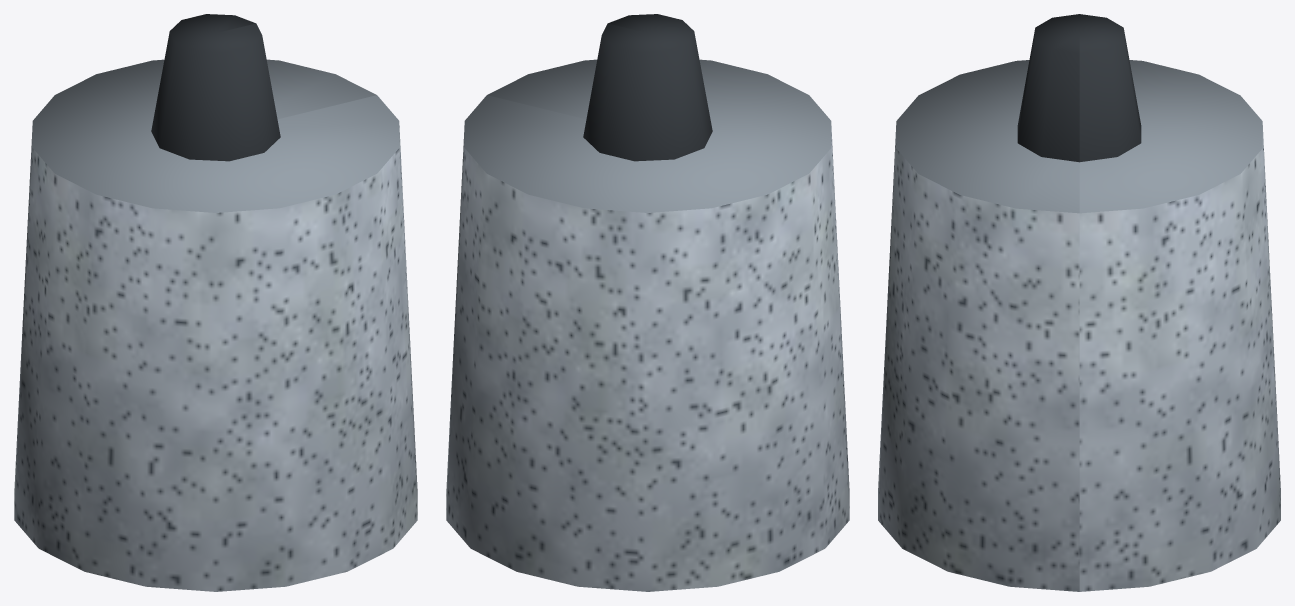
Rendered from prop_airstone.glb.
3 views of the same model, side by side, from view 1: azimuth 30°, elevation 25°; view 2: azimuth 150°, elevation 25°; view 3: azimuth 270°, elevation 25° (orthographic).
Parts seen in each view (by area): view 1: stone, tip; view 2: stone, tip; view 3: stone, tip.
Part boxes in pixels (x1,y1,x2,y2): stone: [14, 59, 417, 591]; tip: [151, 14, 280, 161]; stone: [446, 59, 849, 591]; tip: [583, 14, 712, 161]; stone: [878, 60, 1280, 591]; tip: [1017, 14, 1141, 162].
Bounding box in the file's own units: 2.2 × 2.8 × 2.17.
Materials: 2 (1 with a texture image).
